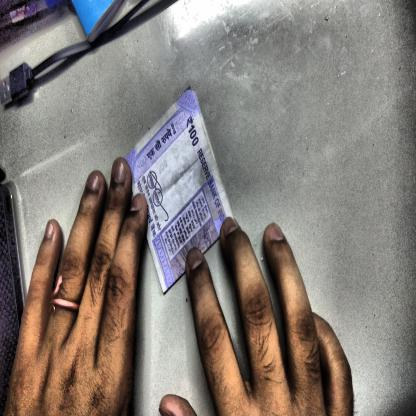Rs100: (183, 112, 202, 152)
